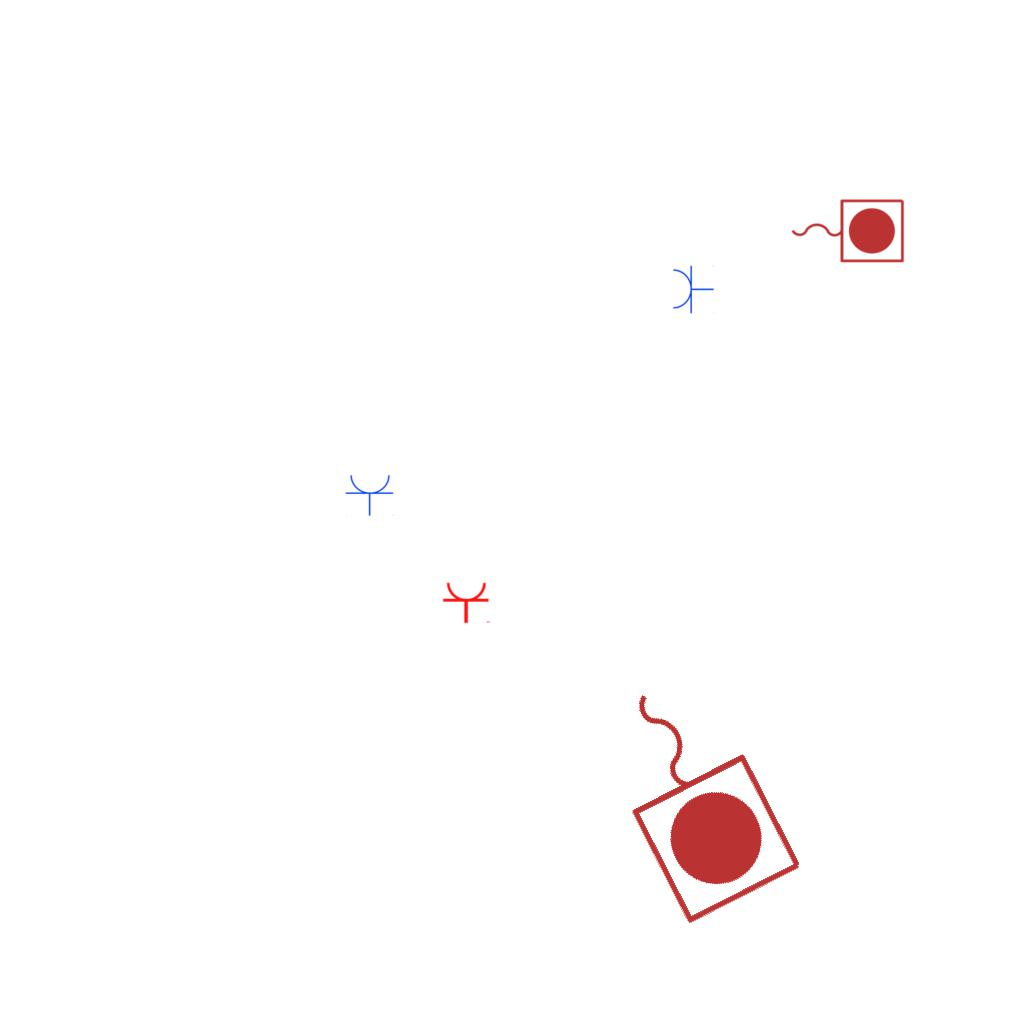Schukosteckdose_einfach: (442, 581, 492, 624), (671, 264, 714, 314), (345, 473, 395, 516)
Zugtaster: (575, 651, 815, 935), (786, 194, 908, 266)
